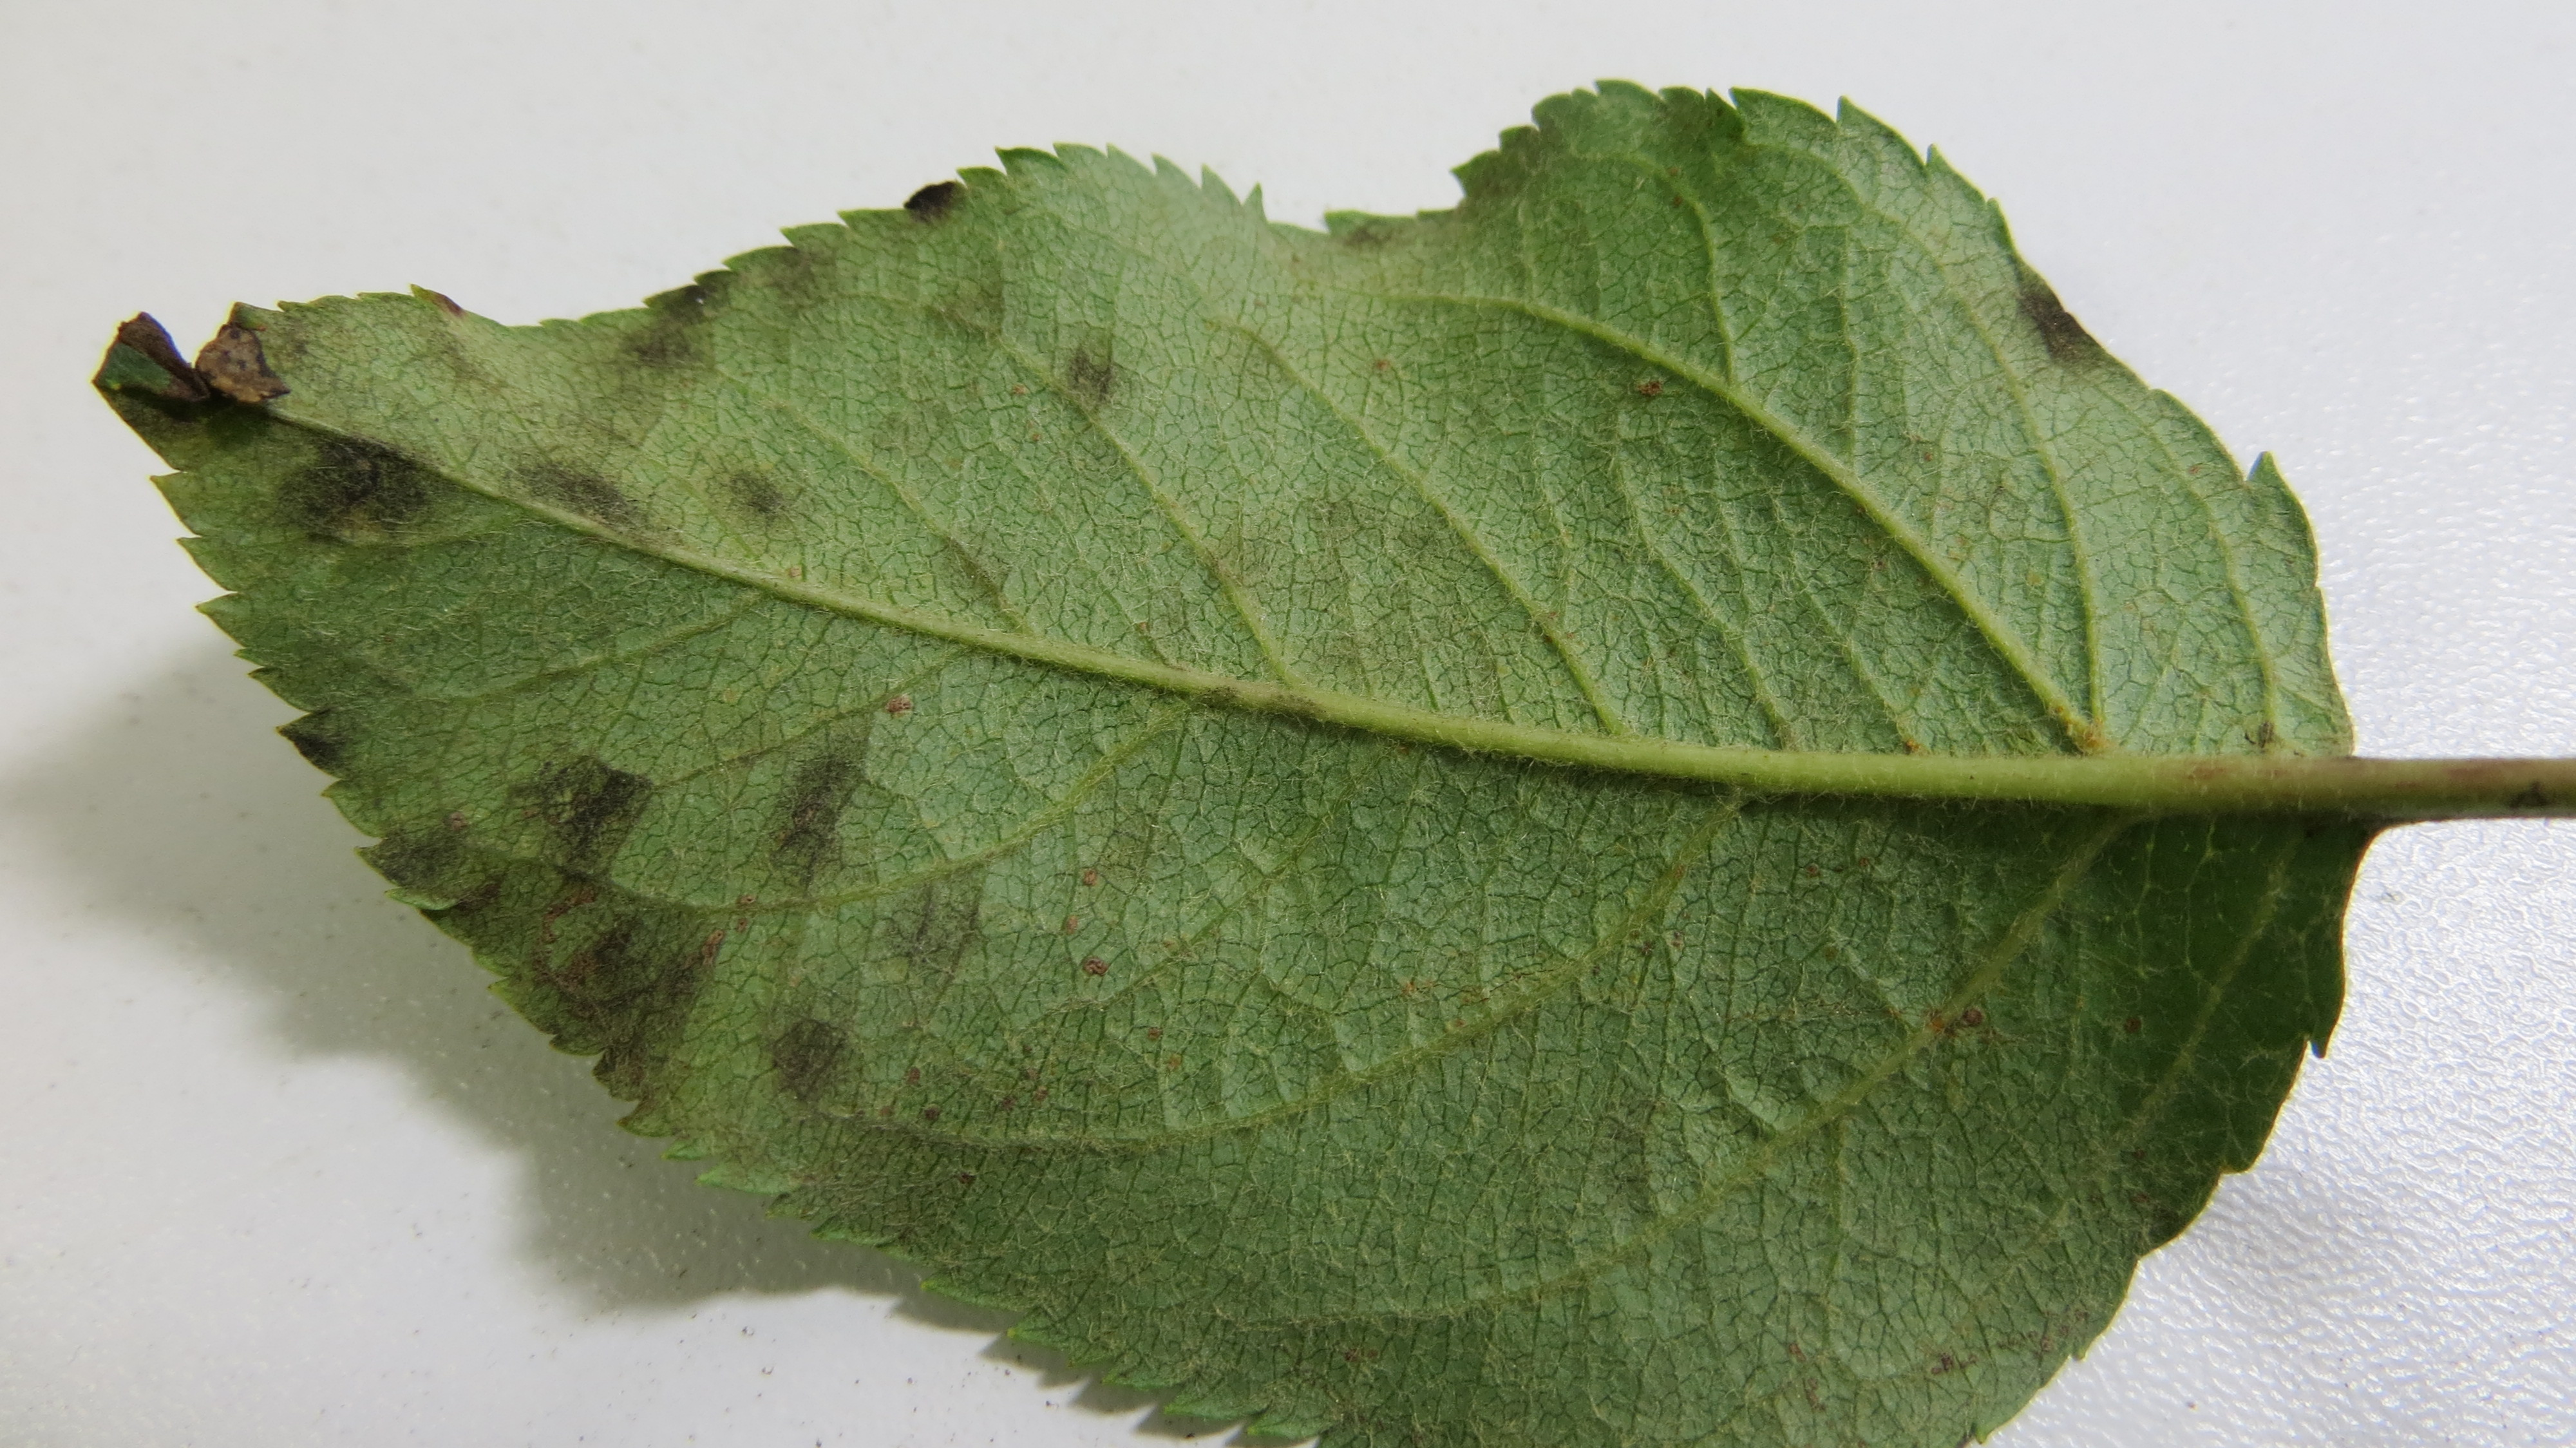sarna: (550, 878, 729, 1098), (743, 712, 901, 905), (384, 797, 554, 972), (272, 414, 462, 570), (508, 717, 662, 883), (609, 264, 773, 412), (124, 308, 287, 437), (502, 437, 671, 558), (1999, 250, 2109, 382), (888, 855, 1001, 975), (702, 443, 821, 547), (920, 526, 1031, 628), (1028, 319, 1134, 423), (748, 1000, 853, 1105), (754, 235, 853, 340), (931, 262, 1030, 350), (897, 172, 1012, 246)
